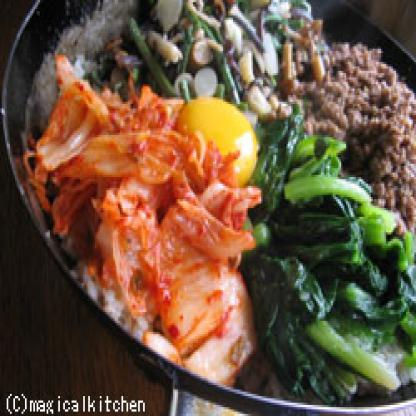bibimbap: (40, 0, 414, 401)
